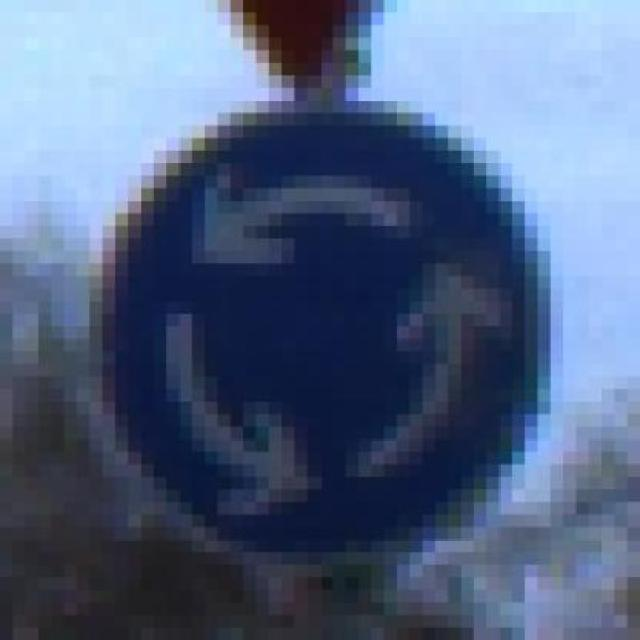Round-About: (52, 75, 576, 590)
